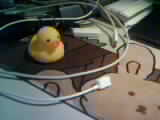duck: (24, 27, 76, 64)
